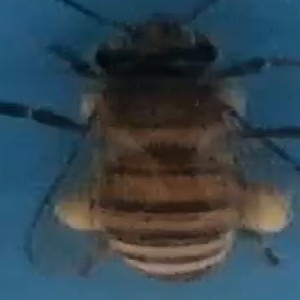bee: (7, 8, 298, 290)
